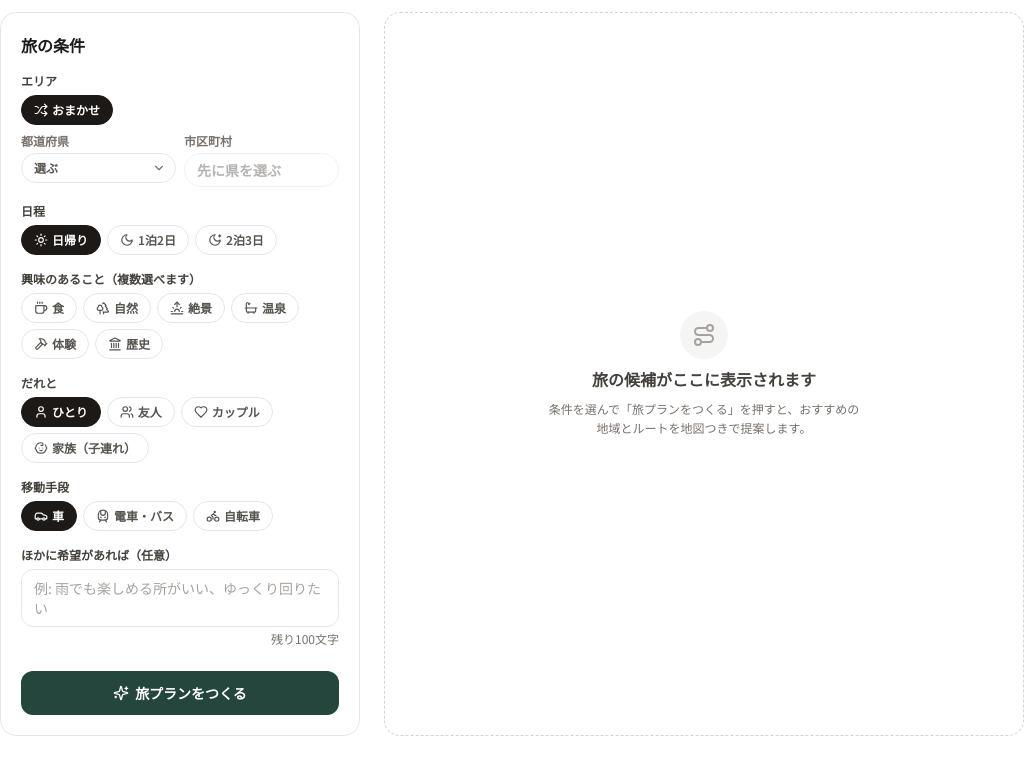
PlannerForm › 条件の送り方（#17） › 県だけ選ぶと、県の名前を送り、URL にも持つ（#147）
Click the dropdown named "都道府県" at (98, 168), box [21,153,176,183]
(page scrolled)
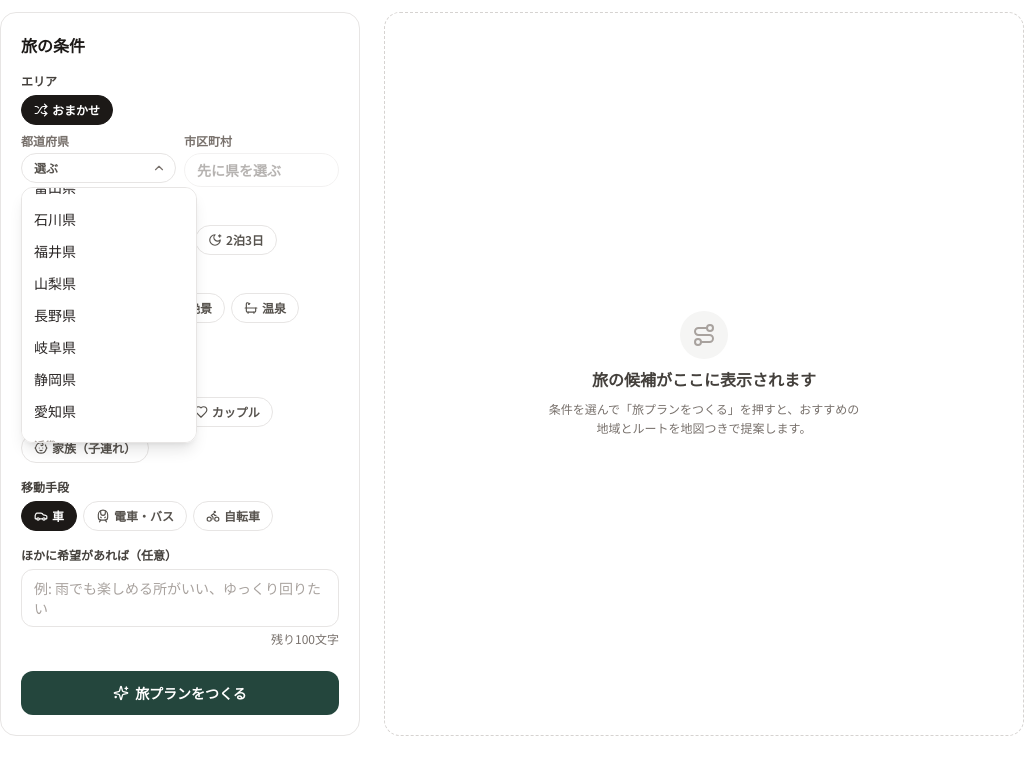
Click the option "長野県" at (55, 315), box [34,305,76,325]
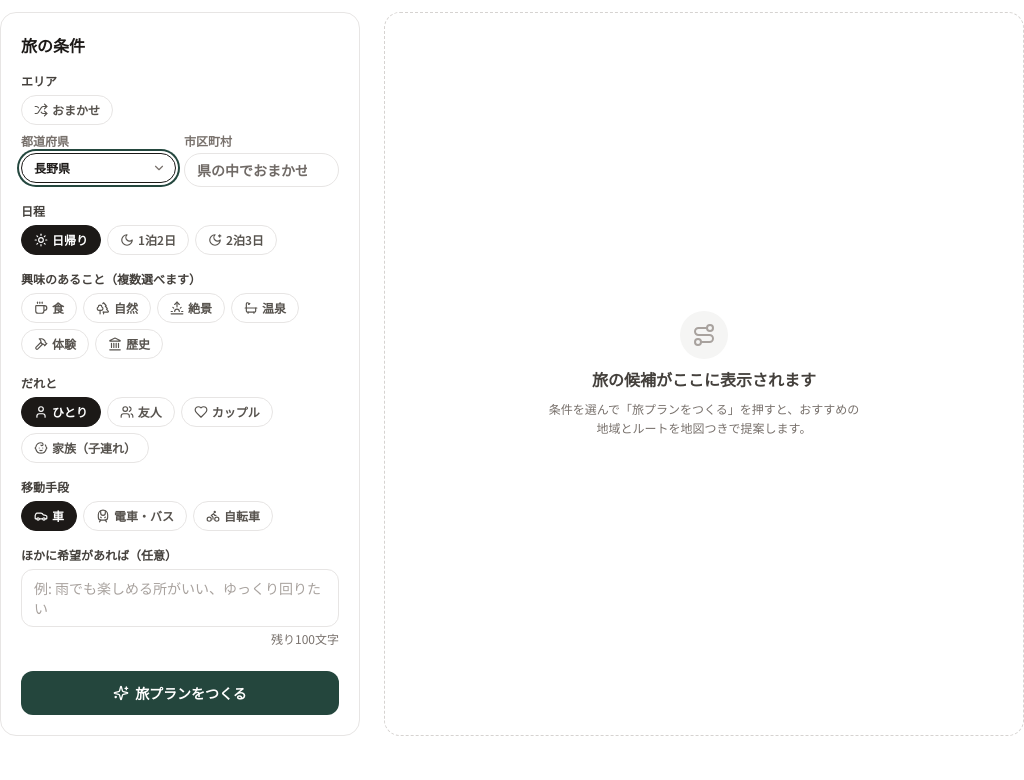
Click the button "旅プランをつくる" at (180, 693), box [21,671,339,715]
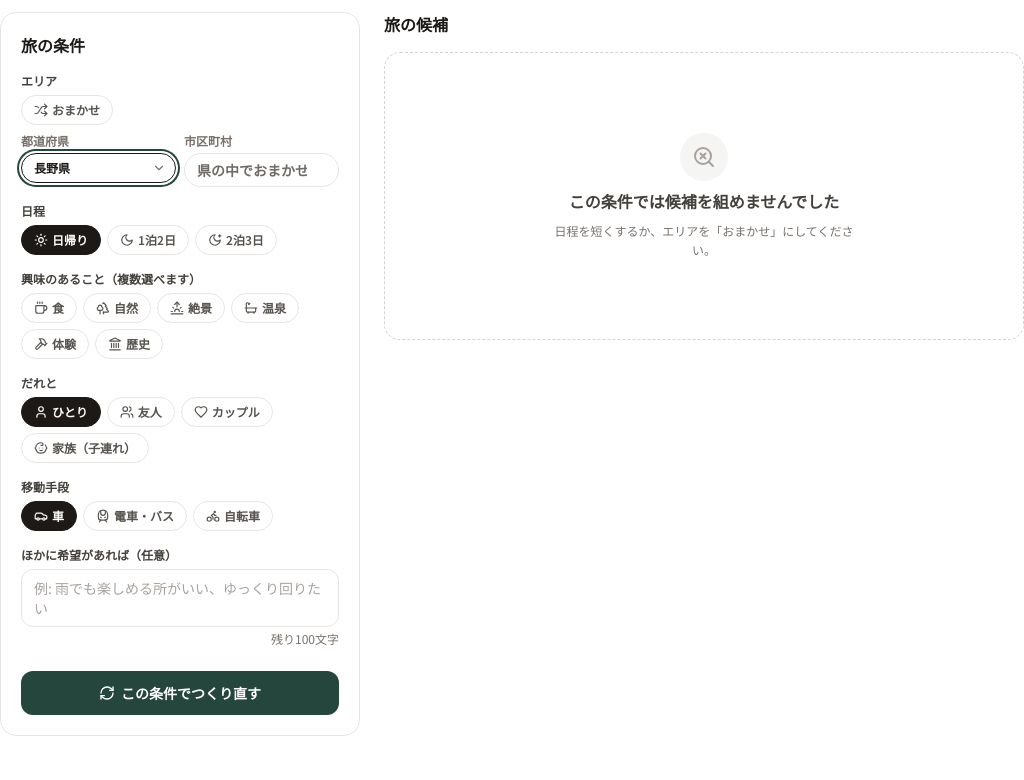
Expected: the dropdown named "都道府県" reads "長野県", [21,153,176,183]
Expected: the text "この条件では候補を組めませんでした" is shown, [569,188,839,212]
